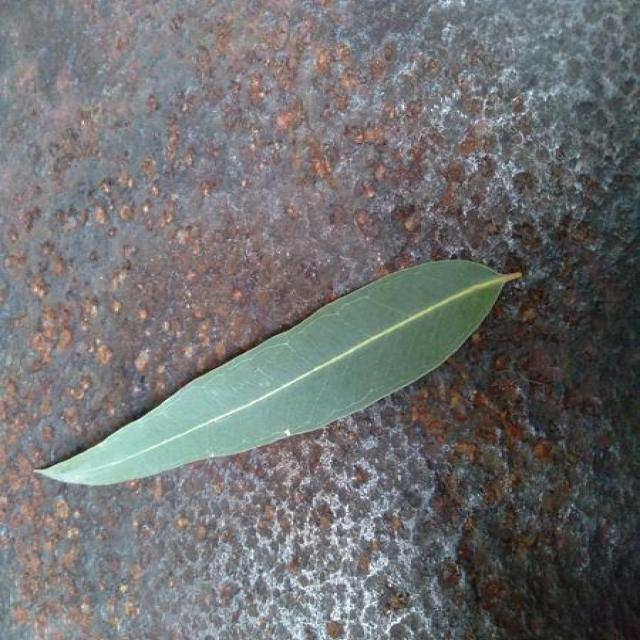eucalpytus: (37, 260, 520, 484)
